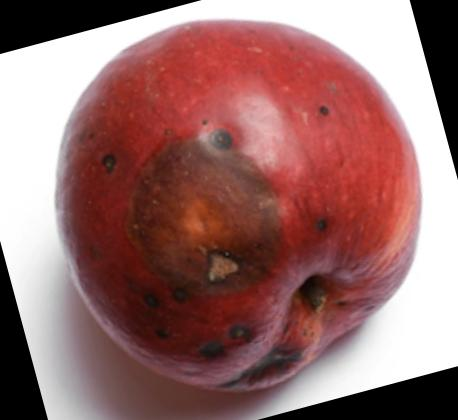Apple: (57, 21, 420, 389)
